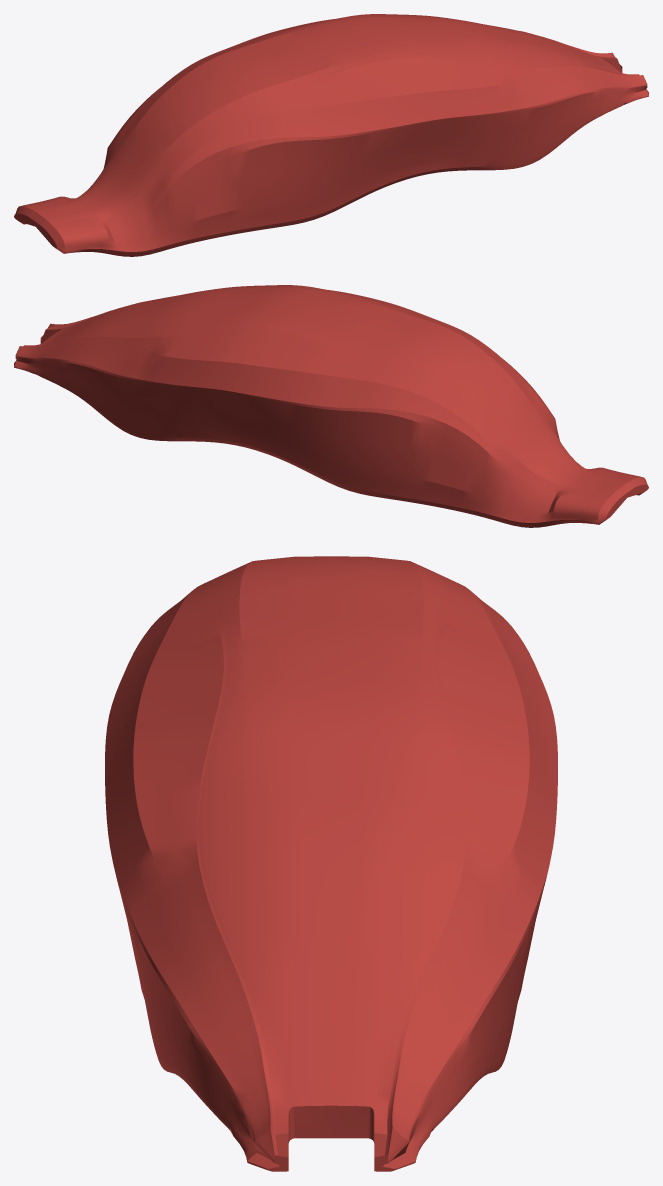
File: sports_tourer_2_lod1.glb
3 renders of one model, top to bottom at view 1: azimuth 30°, elevation 25°; view 2: azimuth 150°, elevation 25°; view 3: azimuth 270°, elevation 25°, orthographic. The views are drawn at different scales.
Visible parts, largest first — view 1: sports_tourer_2_lod1; view 2: sports_tourer_2_lod1; view 3: sports_tourer_2_lod1.
Part boxes in pixels (left/top/right/bottom): sports_tourer_2_lod1: left=14, top=14, right=648, bottom=256; sports_tourer_2_lod1: left=14, top=285, right=648, bottom=527; sports_tourer_2_lod1: left=105, top=556, right=557, bottom=1171.
Bounding box in the file's own units: 1.29 × 0.2864 × 0.4221.
